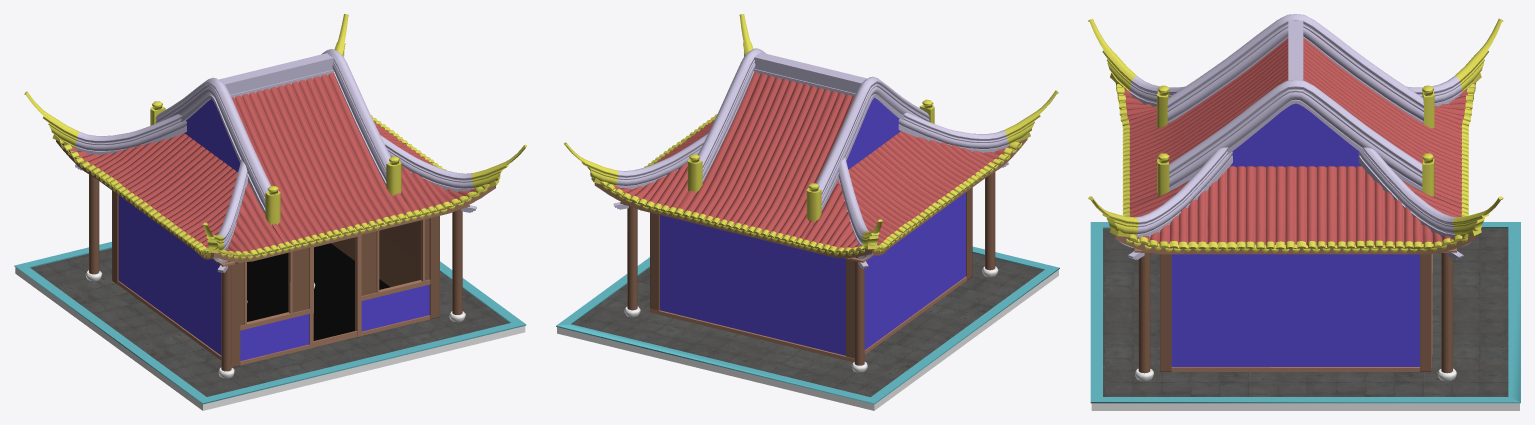
File: Building_B.FBX
3 views of the same model, side by side, from view 1: azimuth 30°, elevation 25°; view 2: azimuth 150°, elevation 25°; view 3: azimuth 270°, elevation 25° (orthographic). The views are drawn at different scales.
Parts seen in each view (by area): view 1: Geometry_Garden_Building_B_LOD00; view 2: Geometry_Garden_Building_B_LOD00; view 3: Geometry_Garden_Building_B_LOD00.
Boxes of the visible parts, x1,y1,x2,y2 form: Geometry_Garden_Building_B_LOD00: (14, 14, 526, 410); Geometry_Garden_Building_B_LOD00: (556, 14, 1059, 410); Geometry_Garden_Building_B_LOD00: (1088, 14, 1520, 410).
Bounding box in the file's own units: 1039 × 735 × 1049.
